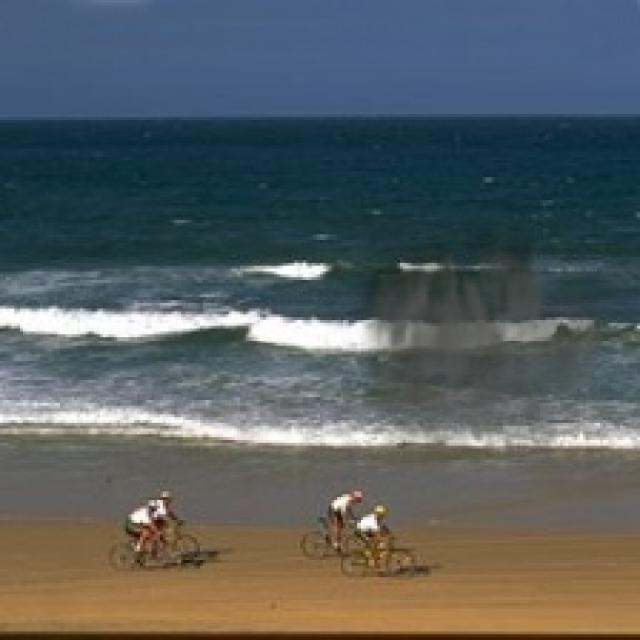Smoke: (348, 228, 600, 488)
